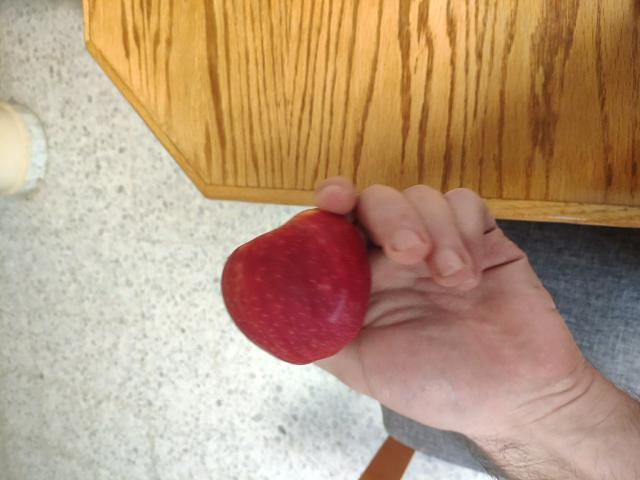apple: (213, 209, 372, 367)
